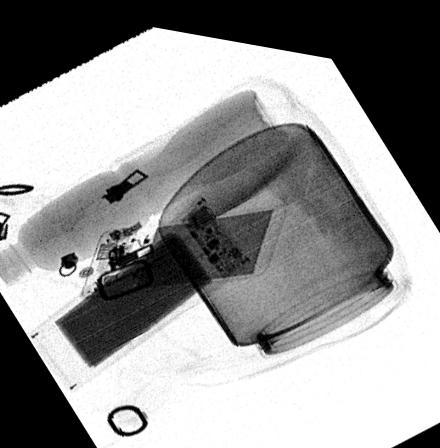Powerbank: (26, 184, 253, 390), (78, 191, 288, 296)
